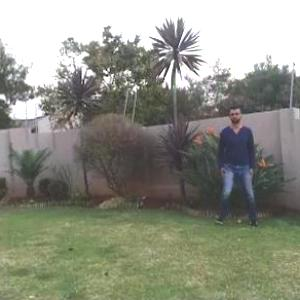follow: (218, 101, 254, 223)
